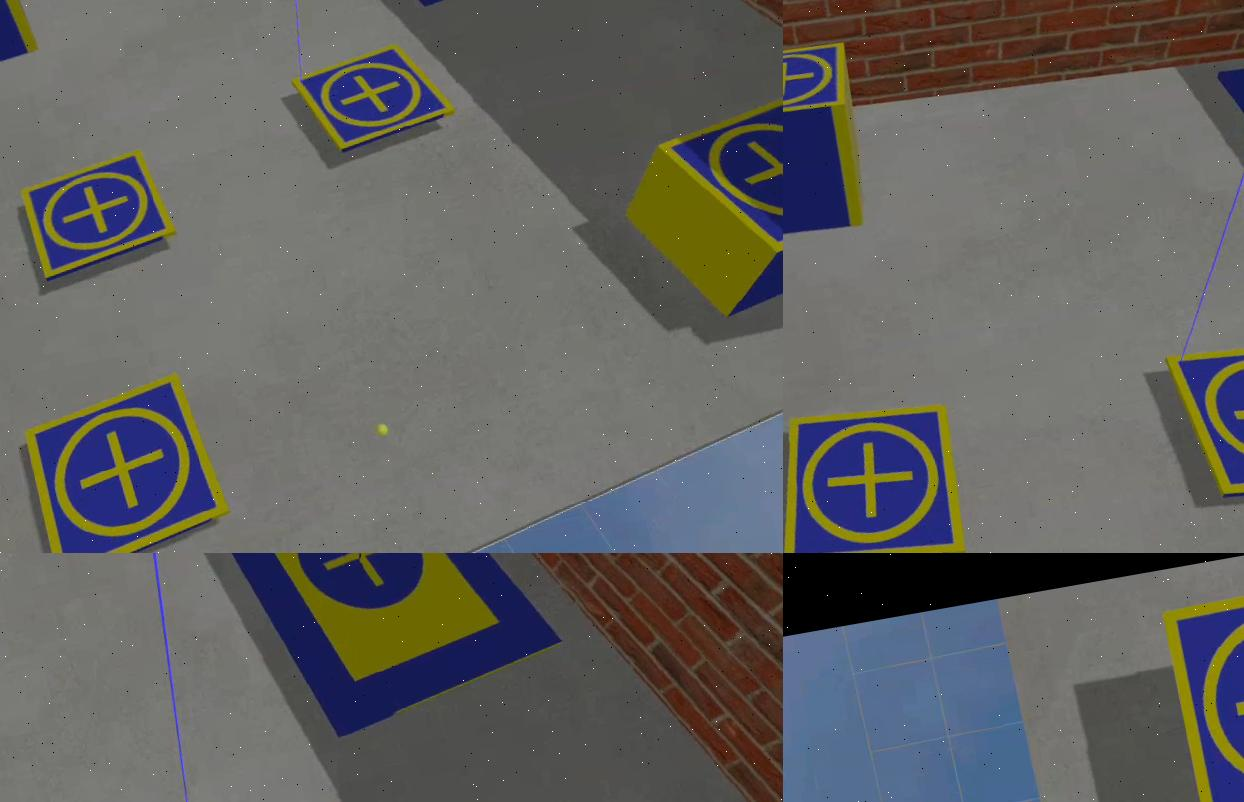large_base: (184, 554, 575, 758)
small_base: (17, 370, 234, 554), (784, 394, 972, 554), (648, 78, 784, 281), (18, 149, 184, 285), (1162, 567, 1244, 802), (298, 44, 460, 157), (1165, 312, 1244, 523), (784, 34, 860, 137)
